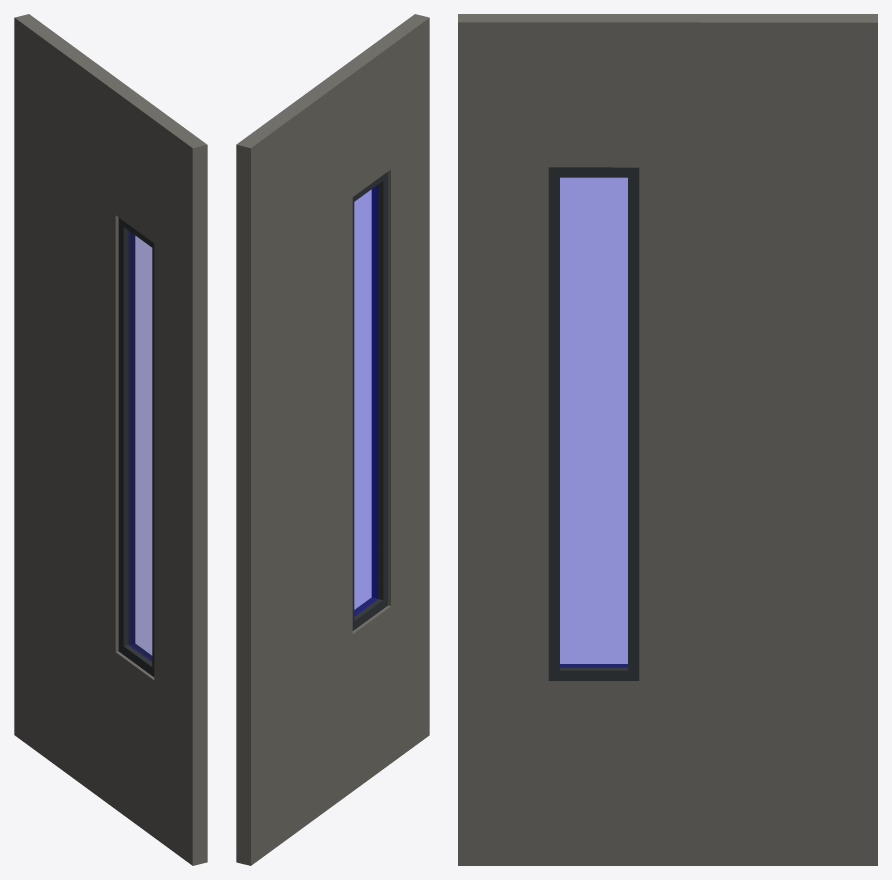
File: MainDoor1Transformed1.fbx
The picture shows the model from 3 angles, left to right: view 1: azimuth 30°, elevation 25°; view 2: azimuth 150°, elevation 25°; view 3: azimuth 270°, elevation 25°; orthographic projection. The views are drawn at different scales.
Visible parts, largest first — view 1: HB_Door_Concept_Int_Sgl_Solid_VP_- DT-03:1010x2110mm RB DT 0; view 2: HB_Door_Concept_Int_Sgl_Solid_VP_- DT-03:1010x2110mm RB DT 0; view 3: HB_Door_Concept_Int_Sgl_Solid_VP_- DT-03:1010x2110mm RB DT 0.
Part boxes in pixels (x1,y1,x2,y2): HB_Door_Concept_Int_Sgl_Solid_VP_- DT-03:1010x2110mm RB DT 0: [14, 14, 207, 865]; HB_Door_Concept_Int_Sgl_Solid_VP_- DT-03:1010x2110mm RB DT 0: [236, 14, 429, 865]; HB_Door_Concept_Int_Sgl_Solid_VP_- DT-03:1010x2110mm RB DT 0: [458, 14, 877, 865].
Size of the model in its own units: 0.0446 by 2.05 by 0.926.
